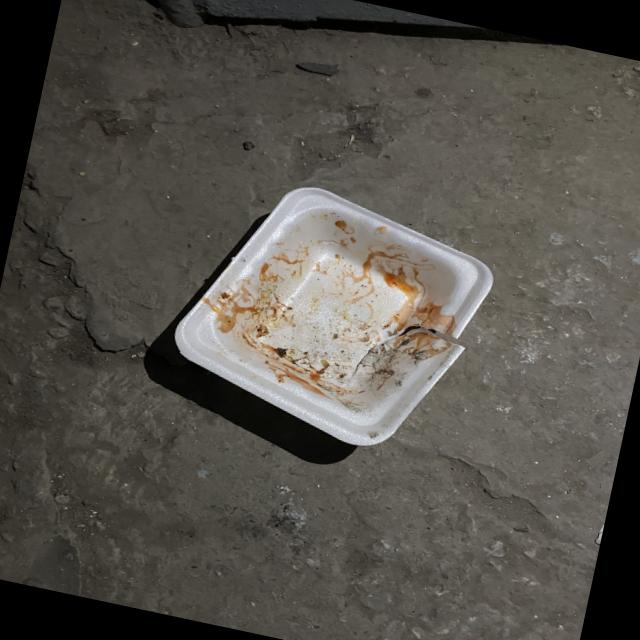electronic: (155, 162, 506, 468)
